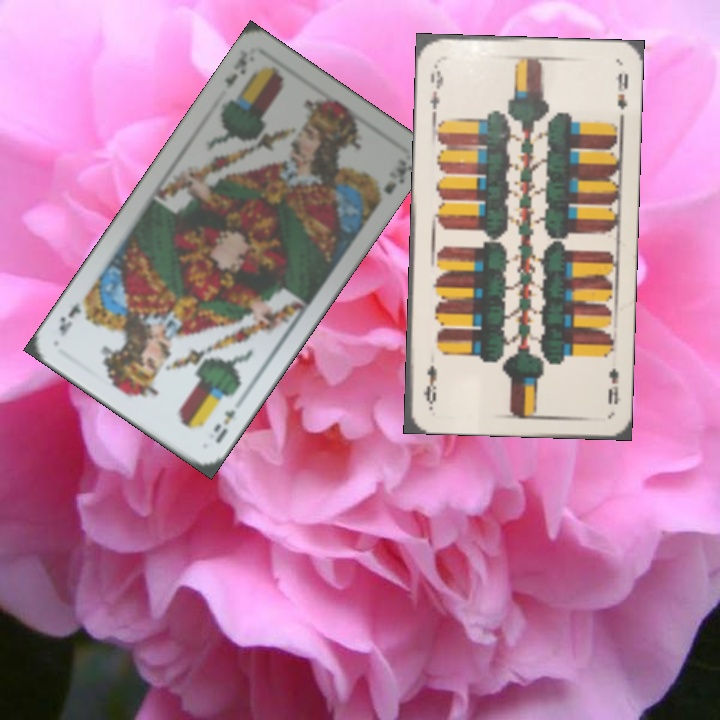E9: (426, 60, 446, 118), (603, 363, 623, 407)
EK: (220, 46, 251, 92), (209, 405, 239, 446)
